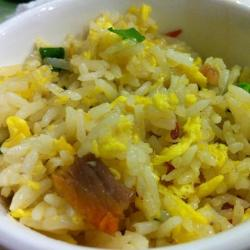rice: (51, 48, 211, 160)
